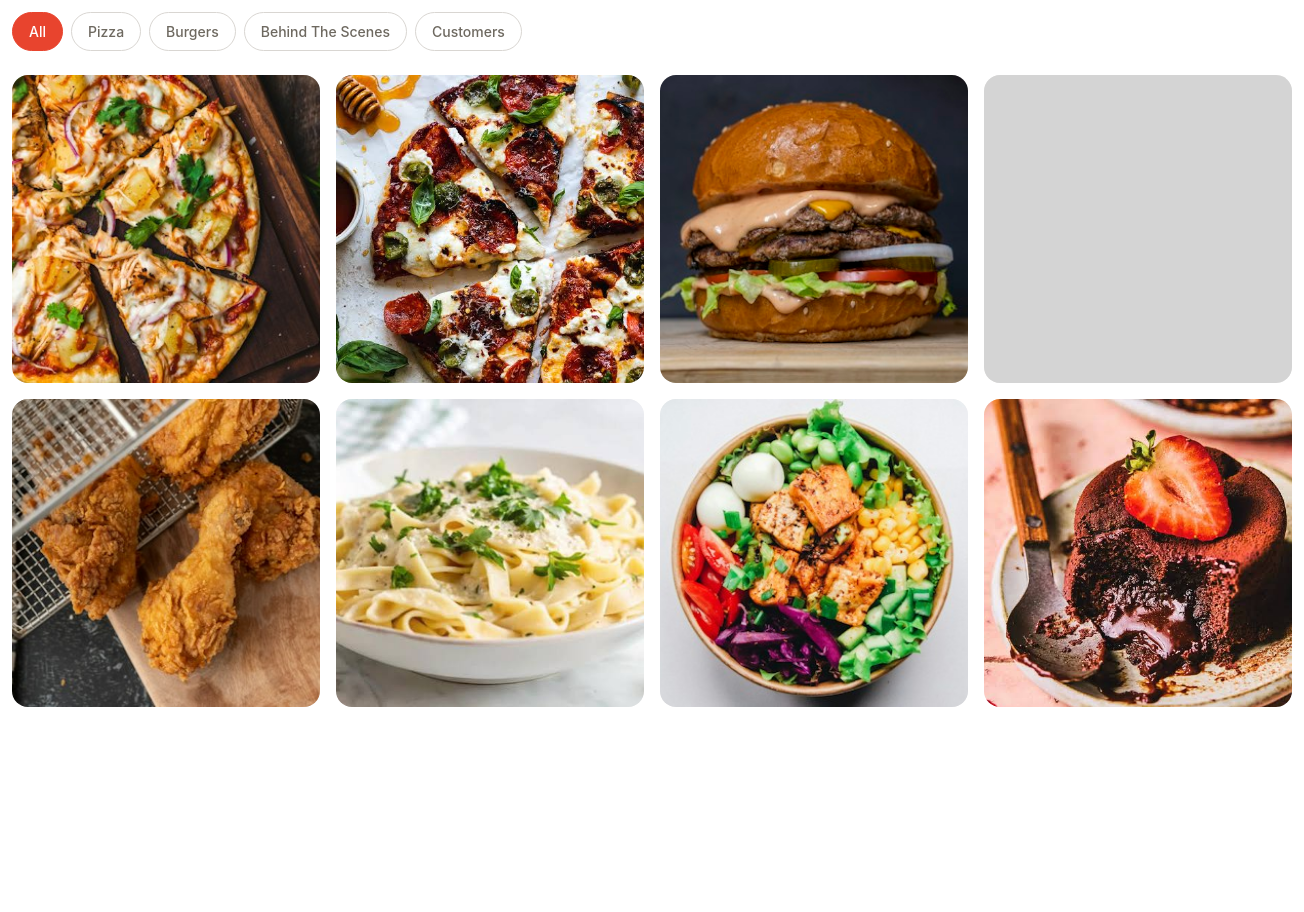
GalleryGrid › shows empty state when no images match filter
This screenshot has width=1304, height=912.
Click the button "Customers": [468, 32] box [415, 12, 522, 51]
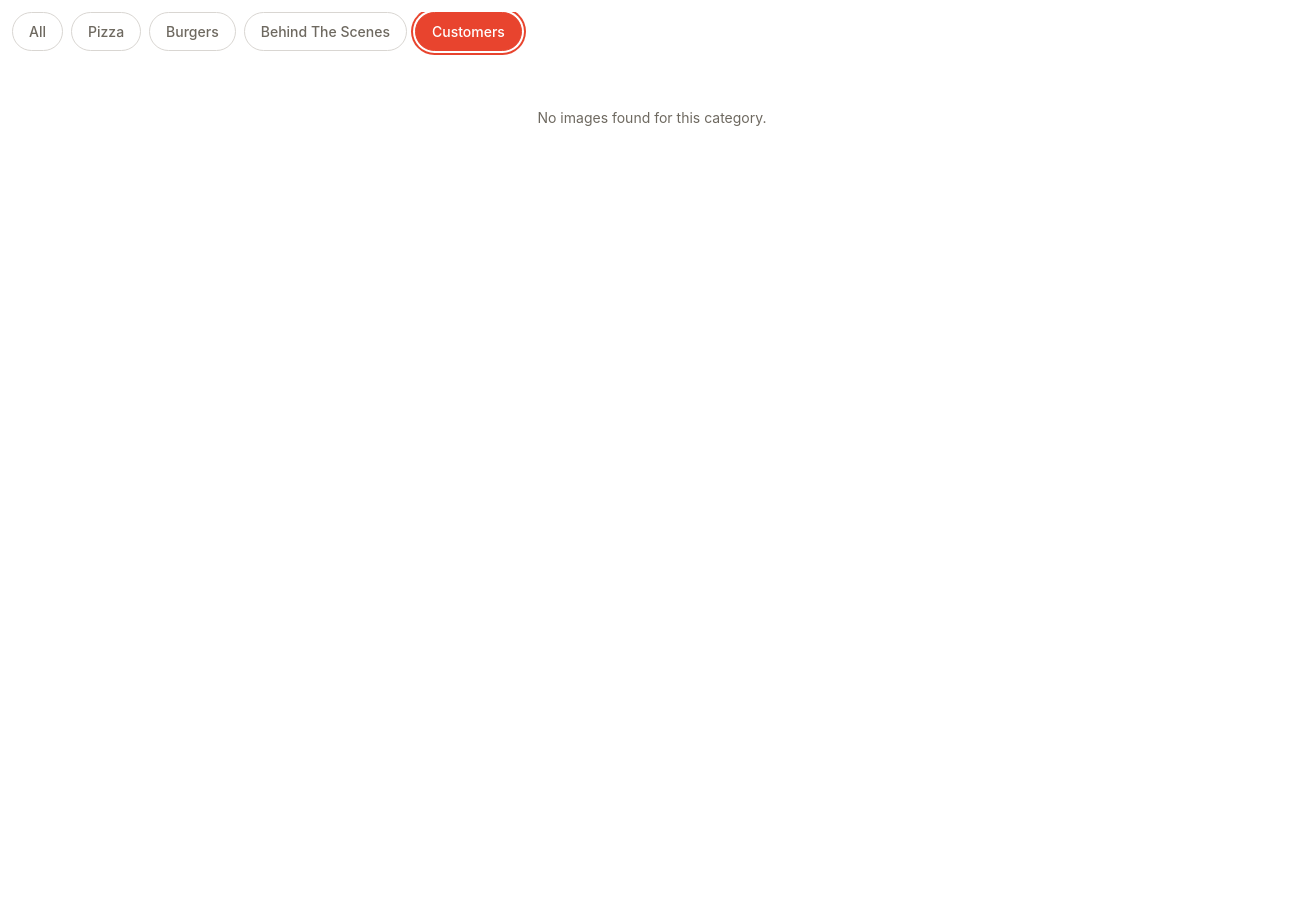
Check: the text "No images found for this category." is shown, box [538, 109, 766, 126]
